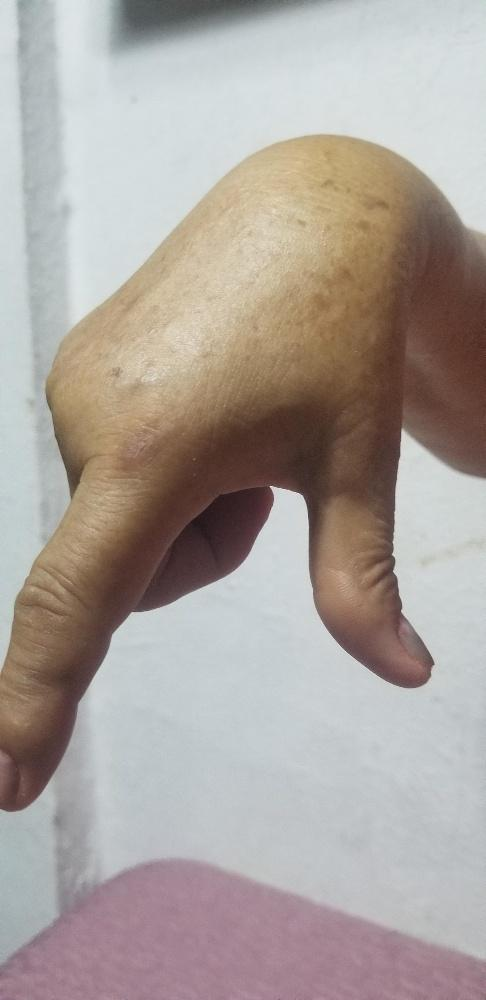q: (0, 204, 439, 811)
